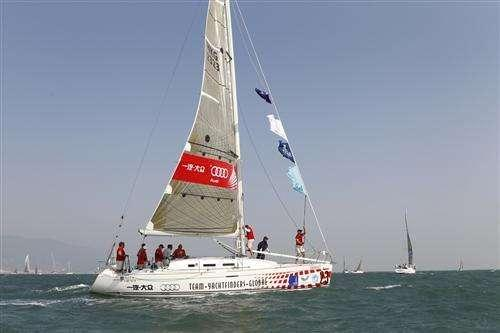fanchuan: (89, 1, 339, 299), (392, 211, 426, 280)
